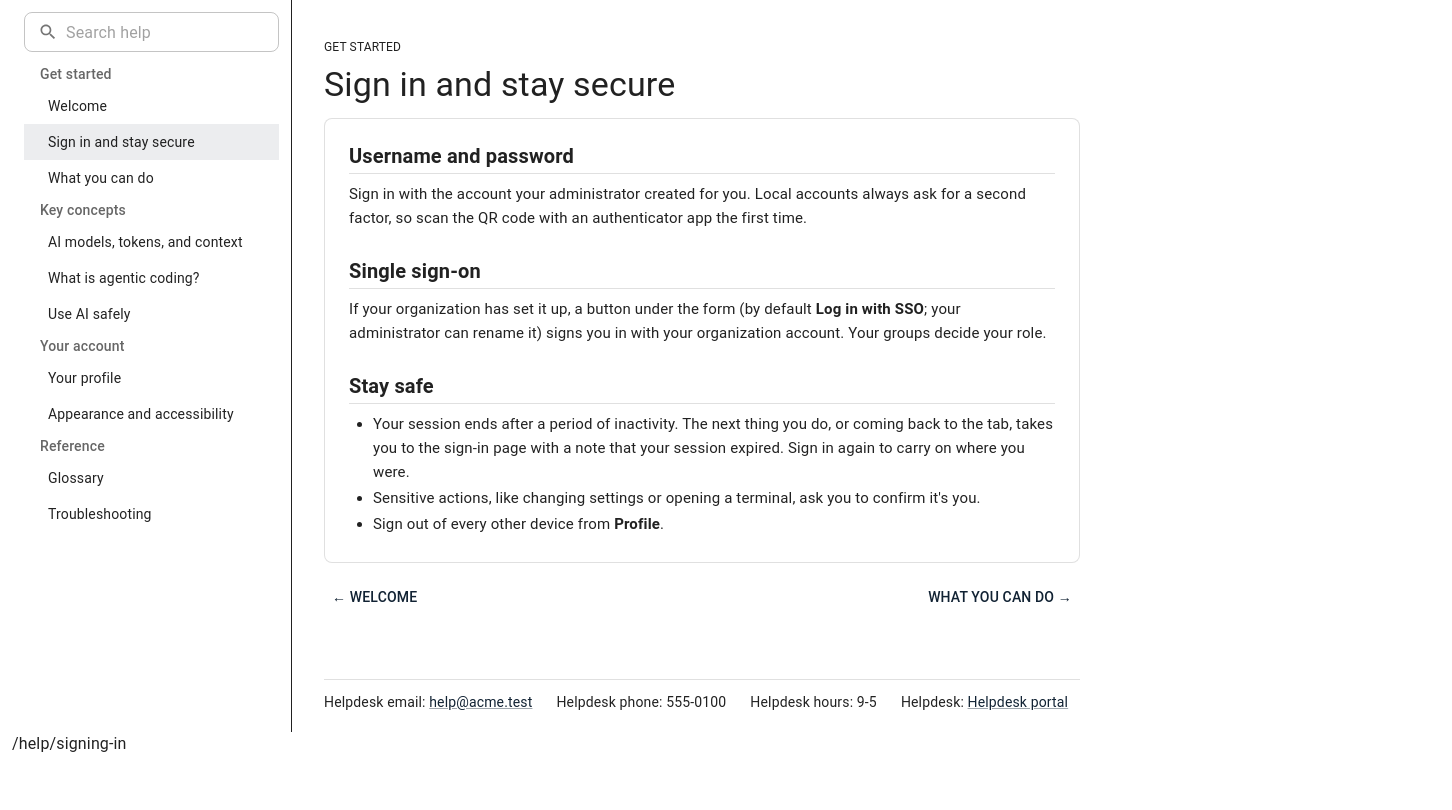
Help page › has previous and next links through the visible topics only
The width and height of the screenshot is (1452, 810).
expect the heading "Sign in and stay secure" is shown: met, box x1=324 y1=64 x2=675 y2=104
expect the link "What you can do →" is shown: met, box x1=928 y1=589 x2=1072 y2=605
Step 1. Click the link "← Welcome" → (375, 597), box x1=332 y1=589 x2=417 y2=605
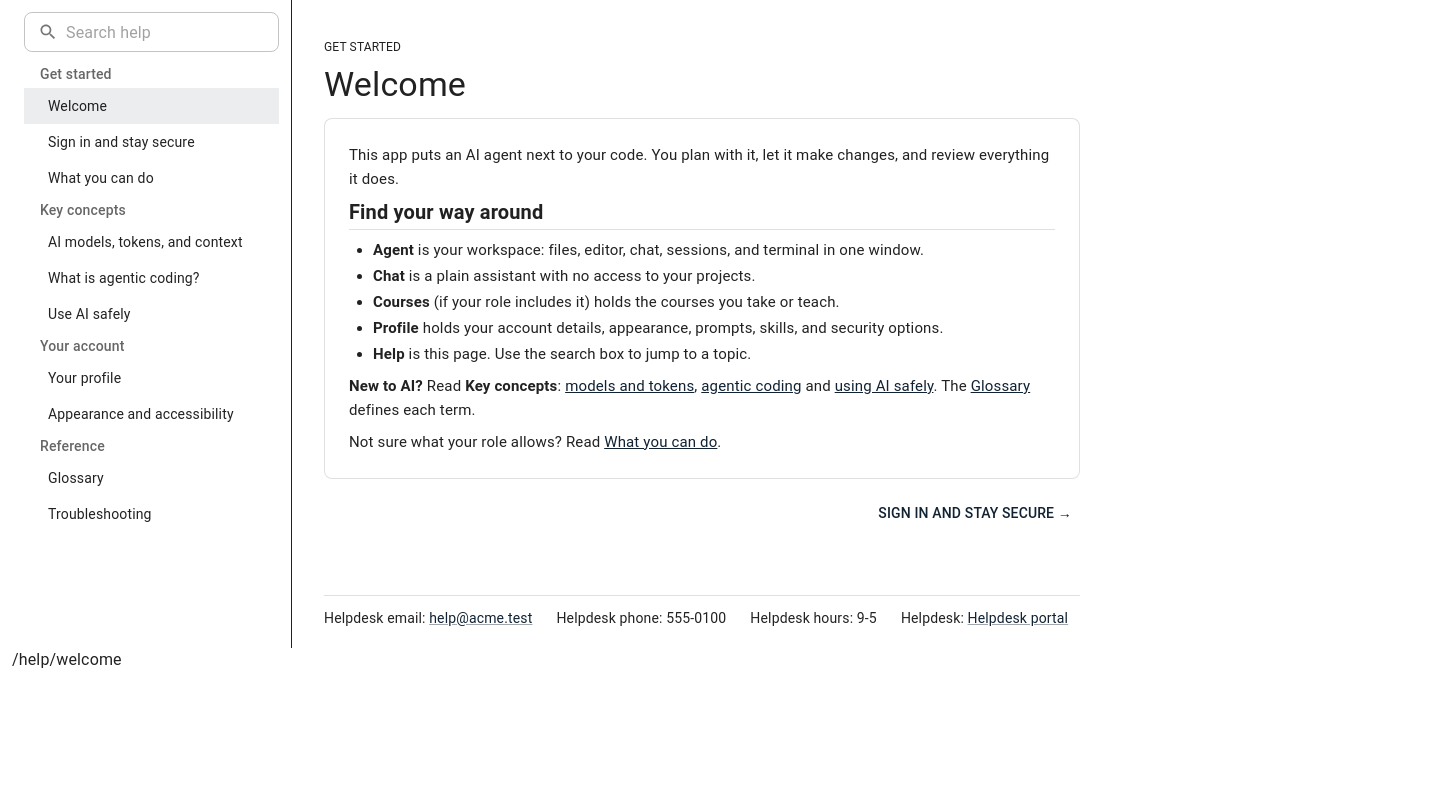
expect the link "←" is gone: met
